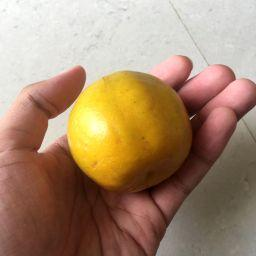Ripe: (67, 71, 190, 193)
